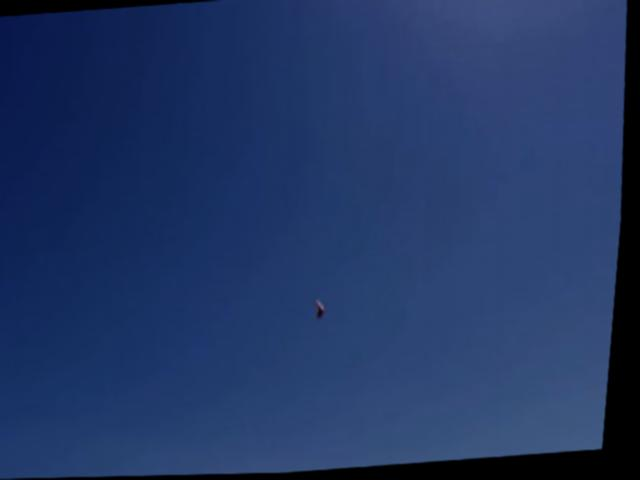flying wing: (316, 297, 335, 324)
